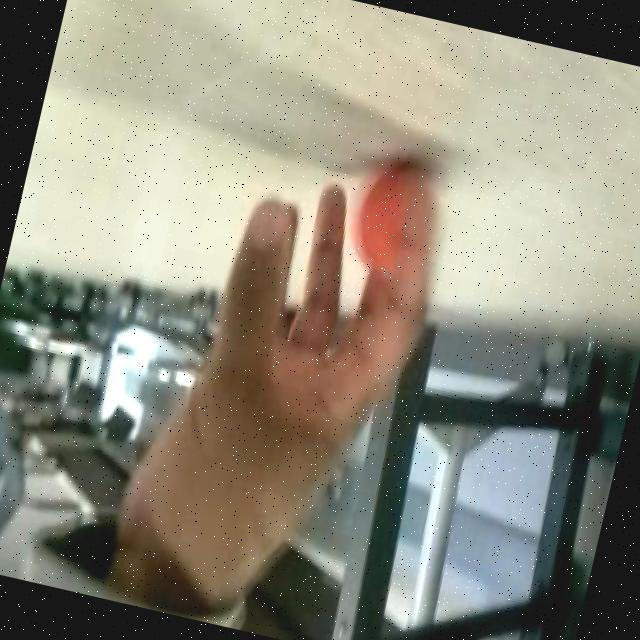ping-pong-ball: (340, 140, 450, 286)
